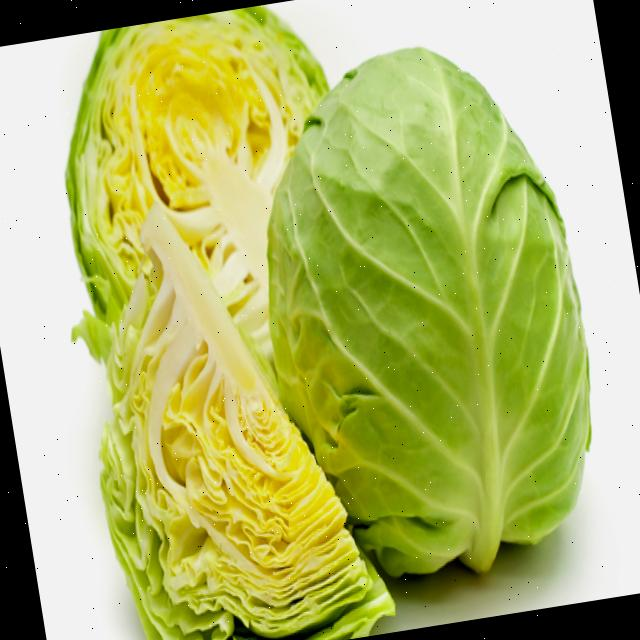cabbage: (219, 0, 635, 630), (21, 116, 413, 640)
